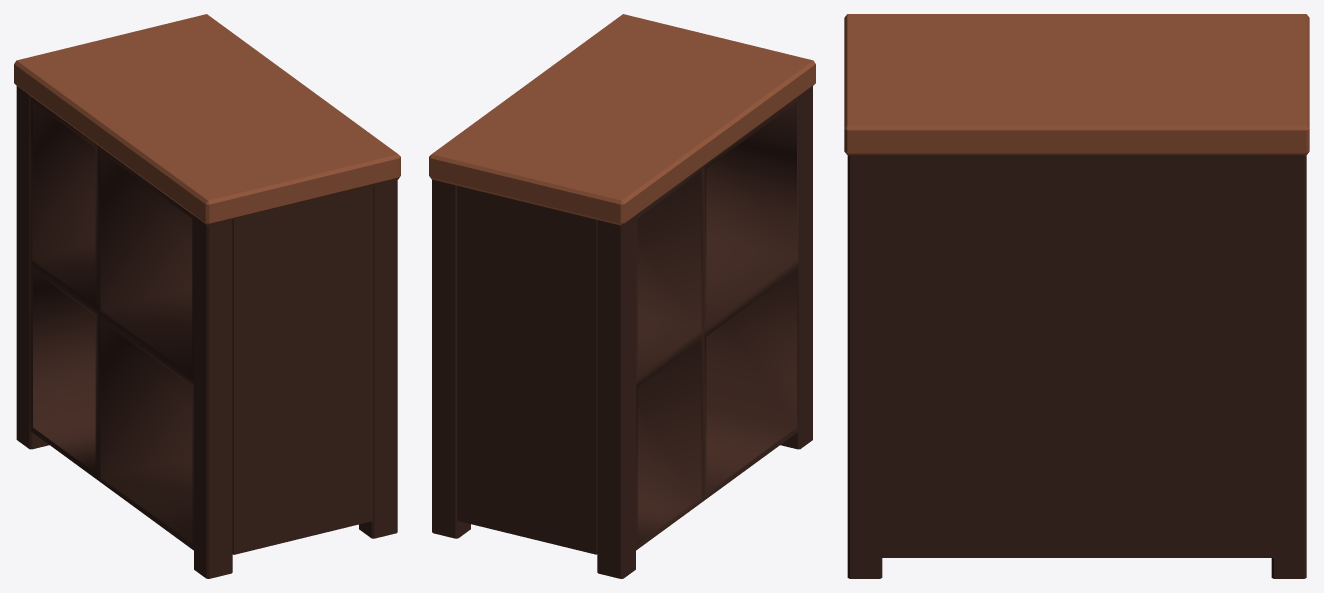
File: BedsideTable1.fbx
3 views of the same model, side by side, from view 1: azimuth 30°, elevation 25°; view 2: azimuth 150°, elevation 25°; view 3: azimuth 270°, elevation 25° (orthographic). The views are drawn at different scales.
Parts seen in each view (by area): view 1: Cube.1477; view 2: Cube.1477; view 3: Cube.1477.
Part boxes in pixels (left/top/right/bottom): Cube.1477: left=14, top=14, right=400, bottom=578; Cube.1477: left=429, top=14, right=815, bottom=578; Cube.1477: left=844, top=14, right=1309, bottom=578.
Size of the model in its own units: 30.54 by 56.62 by 52.57.
